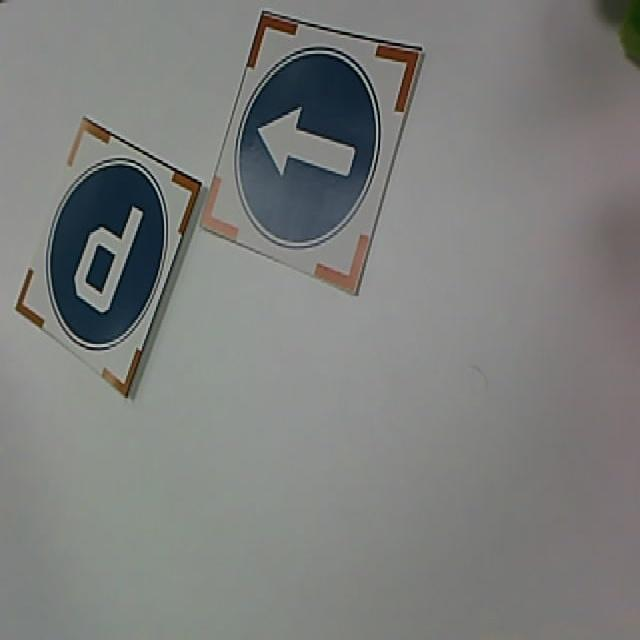parking: (44, 155, 170, 349)
straight: (237, 48, 381, 248)
